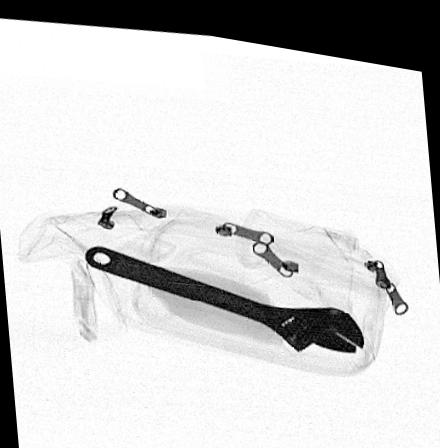Wrench: (84, 245, 367, 341)
